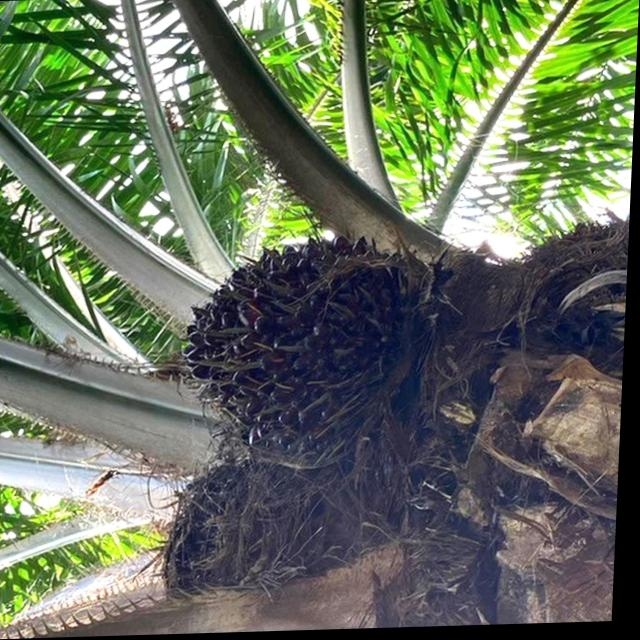ripe: (187, 234, 460, 449)
